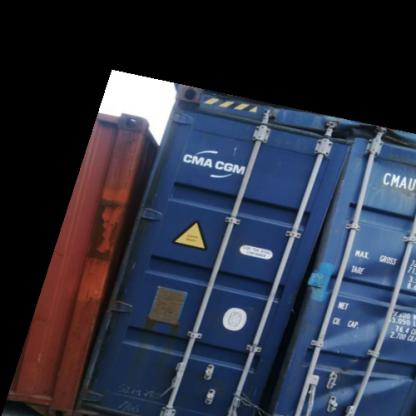Damage: (312, 304, 411, 408), (247, 271, 306, 413), (320, 110, 415, 197), (87, 193, 124, 261), (140, 315, 184, 343)
